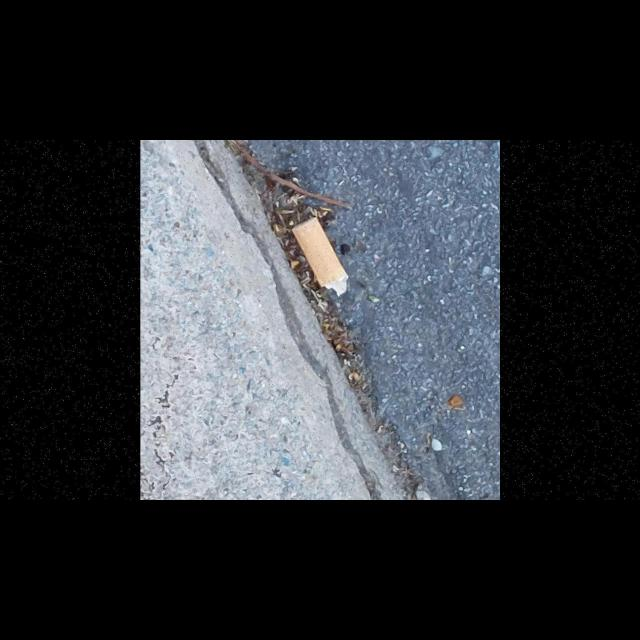cigarette: (291, 217, 350, 297)
